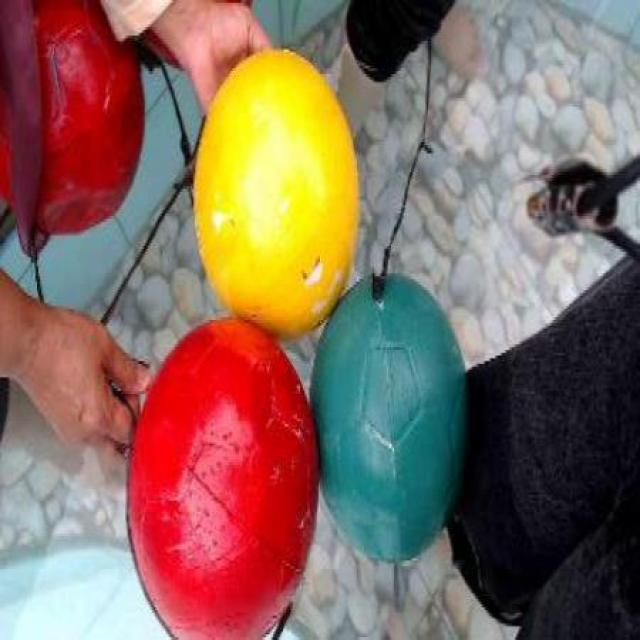buoy: (124, 316, 320, 636), (194, 47, 359, 340), (308, 270, 471, 562), (0, 0, 144, 235)
